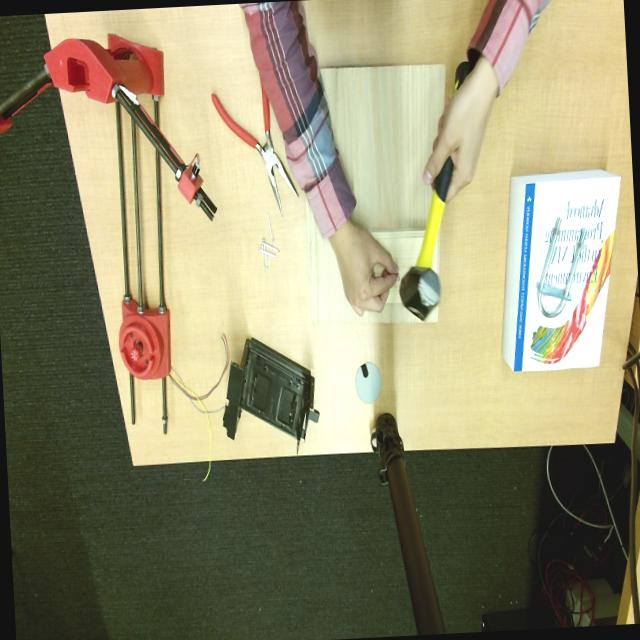hammer: (400, 157, 454, 321)
pliers: (212, 84, 297, 215)
